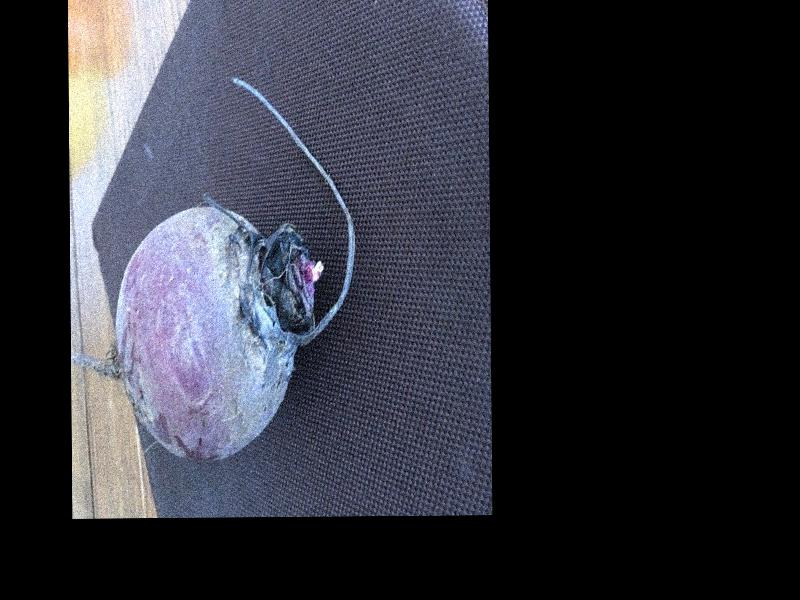Beet: (69, 75, 357, 463)
